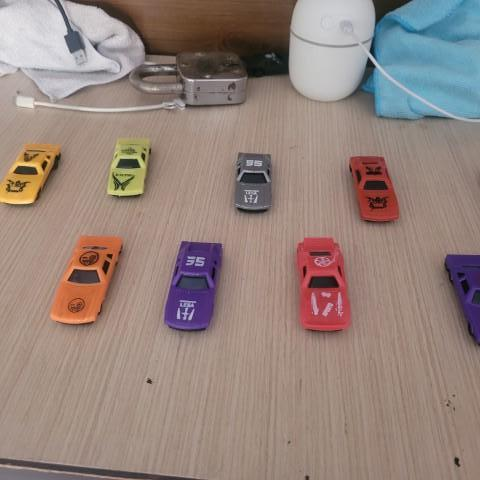car: (50, 233, 125, 325), (295, 236, 354, 334), (164, 239, 220, 331), (349, 152, 401, 225), (106, 135, 154, 197), (230, 150, 273, 212)
